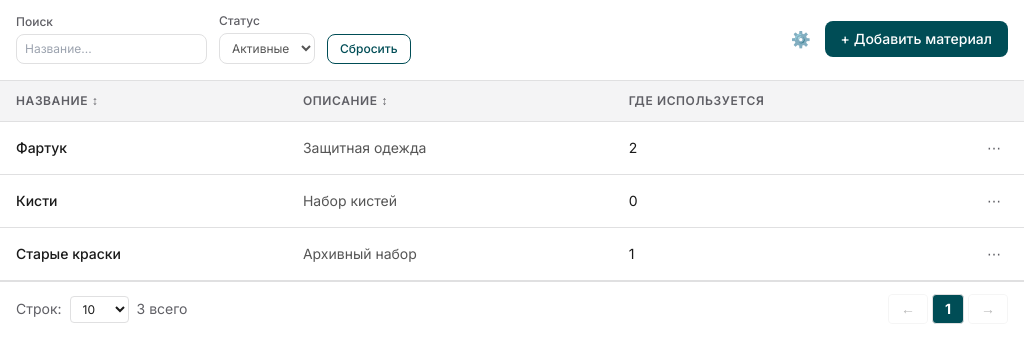
it: MaterialsTable › resets search and refetches without q
Expected: the text "Фартук" is shown, [16, 139, 67, 156]
Type "Фарт" into the field named "Поиск по названию".
click(112, 49); type("Фарт")  # box [16, 34, 207, 64]
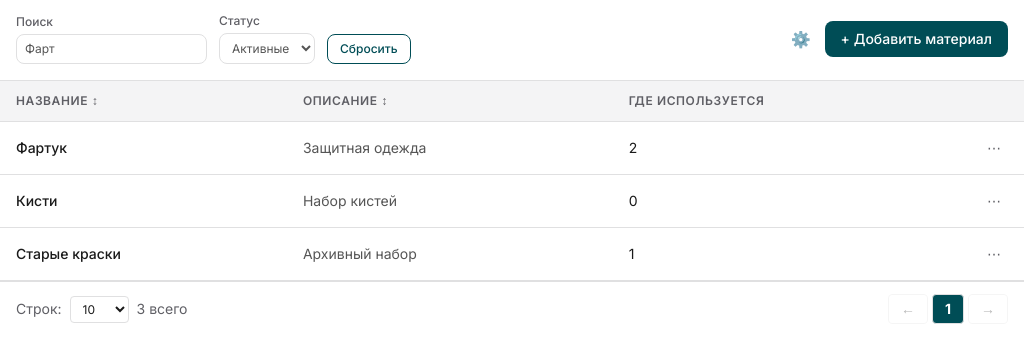
Click the button "Сбросить".
click(369, 49)  # box [327, 34, 410, 64]
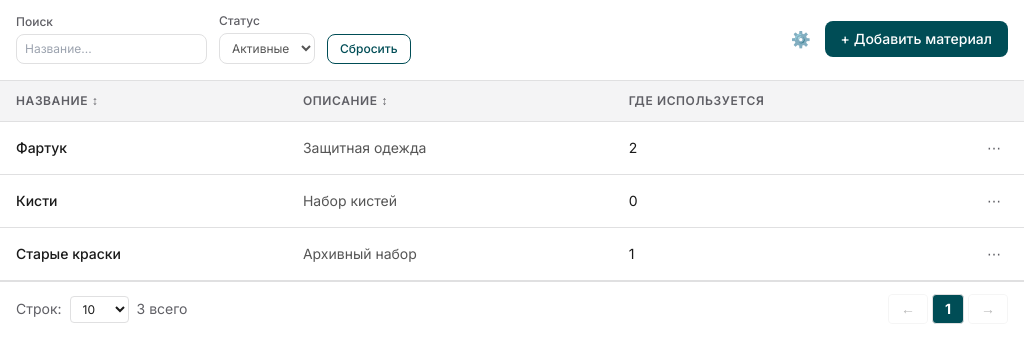
Expected: the field named "Поиск по названию" is empty, [16, 34, 207, 64]
